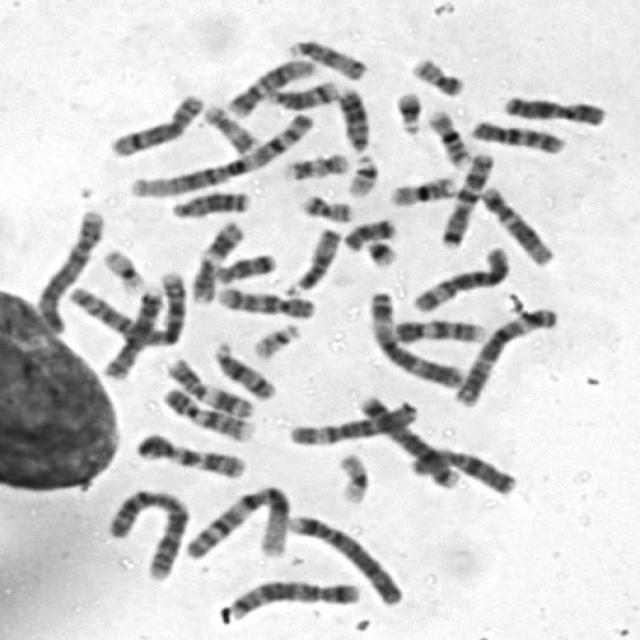A1: (124, 106, 318, 200), (181, 480, 295, 562)
A2: (65, 264, 191, 348), (101, 482, 192, 582)
A3: (448, 300, 561, 408), (364, 284, 468, 390)
B4: (283, 508, 407, 607), (30, 204, 106, 335)
B5: (351, 388, 463, 489), (221, 573, 364, 622)
C10: (466, 115, 568, 156), (213, 281, 318, 320)
C11: (159, 351, 257, 420), (186, 215, 247, 305)
C12: (475, 181, 556, 266), (221, 52, 317, 118)
C6: (407, 240, 513, 314), (282, 396, 420, 448)
C7: (435, 147, 498, 249), (130, 427, 249, 480)
C8: (103, 87, 207, 159), (96, 281, 166, 382)
C9: (156, 381, 258, 443), (388, 312, 489, 346)
D13: (166, 183, 255, 220), (332, 81, 374, 153)
D14: (207, 336, 279, 401), (261, 75, 342, 111)
D15: (280, 222, 343, 297), (281, 33, 370, 81)
E16: (422, 103, 476, 169), (384, 169, 460, 207)
E17: (199, 98, 262, 156), (278, 148, 352, 182)
E18: (210, 247, 280, 285), (340, 213, 400, 253)
F19: (98, 242, 149, 294), (332, 448, 373, 506)
F20: (405, 51, 468, 97), (295, 189, 356, 223)
G21: (389, 86, 426, 136), (360, 234, 401, 268)
G22: (247, 317, 304, 360), (341, 148, 382, 198)
X: (403, 442, 518, 497), (498, 88, 608, 127)
